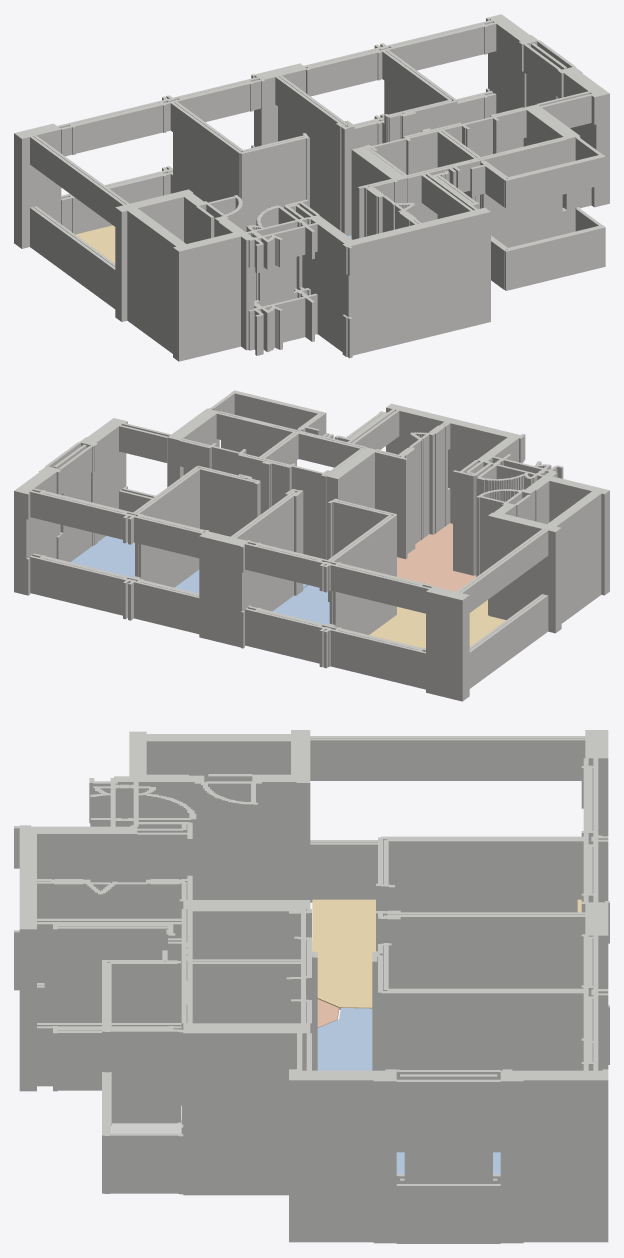
The picture shows the model from 3 angles, top to bottom: view 1: azimuth 30°, elevation 25°; view 2: azimuth 150°, elevation 25°; view 3: azimuth 270°, elevation 25°; orthographic projection. The views are drawn at different scales.
Parts seen in each view (by area): view 1: walls, room:living:1; view 2: walls, room:kitchen:9, room:living:1, room:bedroom:2, room:bedroom:0; view 3: walls, room:living:1, room:bedroom:0, room:ledge:7.
Part boxes in pixels (x1,y1,x2,y2): walls: [14, 14, 609, 361]; room:living:1: [76, 225, 115, 263]; walls: [14, 390, 609, 701]; room:kitchen:9: [397, 523, 476, 591]; room:living:1: [369, 600, 505, 648]; room:bedroom:2: [71, 536, 134, 577]; room:bedroom:0: [272, 585, 329, 624]; walls: [14, 730, 609, 1243]; room:living:1: [312, 899, 581, 1009]; room:bedroom:0: [317, 1008, 372, 1070]; room:ledge:7: [112, 1119, 181, 1133].
Bounding box in the file's own units: 13.03 × 2.8 × 9.33.
